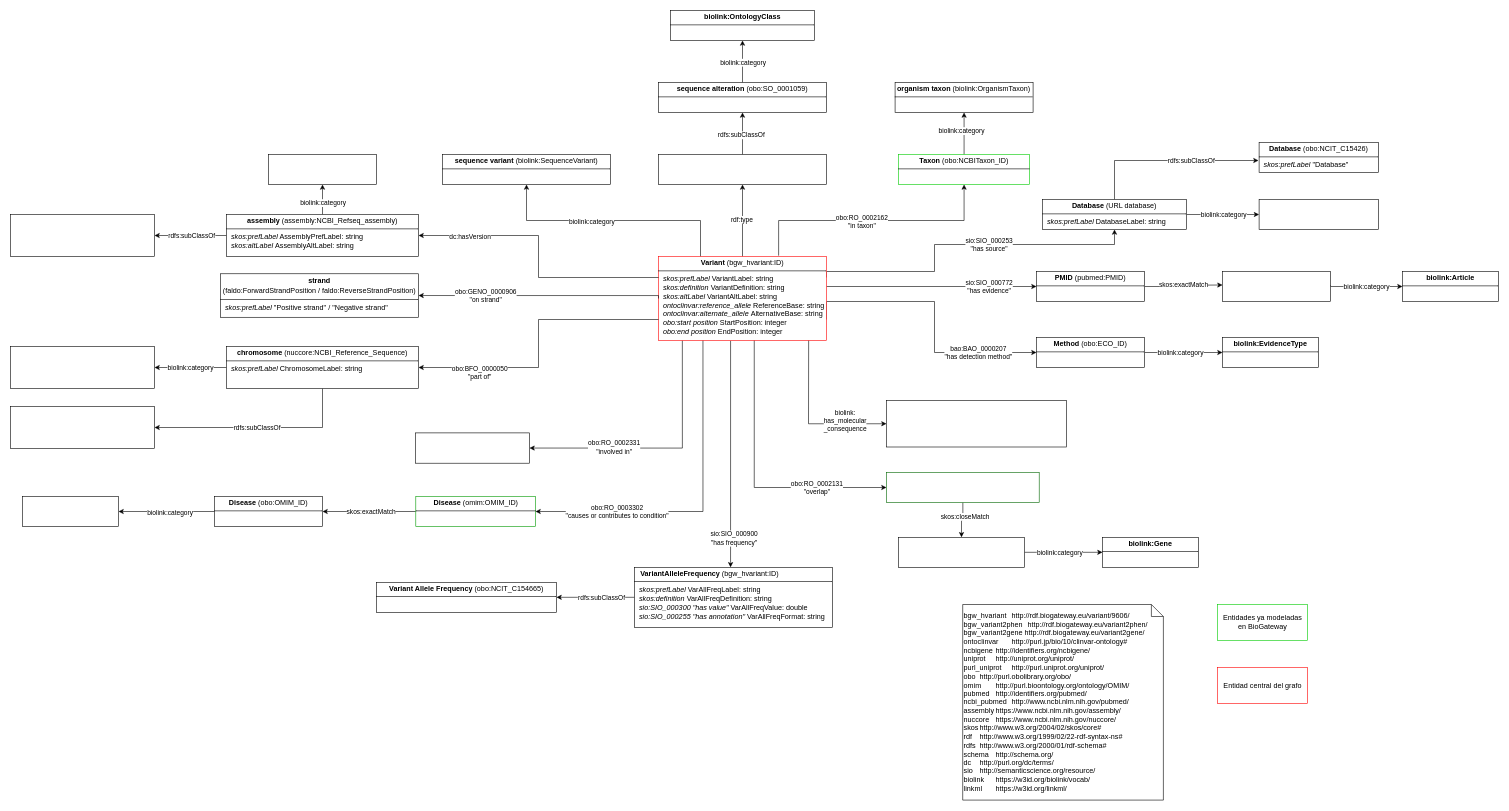
Image size: 1509x811. Some labels were removed from this diagram. The shapes that lost their labels are listed below. From the top down, each one's centre as x and y in pixels, then its label:
the point at 322,169: genome (biolink:Genome)
the point at 742,169: VariantType_SequenceOntology (obo:SO_ID)
the point at 1318,214: biolink: InformationResource
the point at 82,235: reference genome (obo: SO_0001505) skos:prefLabel "reference genome"
the point at 1276,286: PMID (ncbi_pubmed:PMID)
the point at 82,367: genomic sequence localization (biolink: GenomicSequenceLocalization)
the point at 82,427: chromosome (obo: SO_0000340) skos:prefLabel "chromosome"
the point at 976,423: Molecular Consequence ( SO_ID ) skos:prefLabel MolecularConsequenceLabel: string
the point at 472,447: ClinicalSignificance (NCIT_ID)
the point at 962,487: Gene (bgw_hgene:GeneSymbol)
the point at 70,511: biolink:Disease
the point at 961,552: Gene (ncbigene:geneID)
